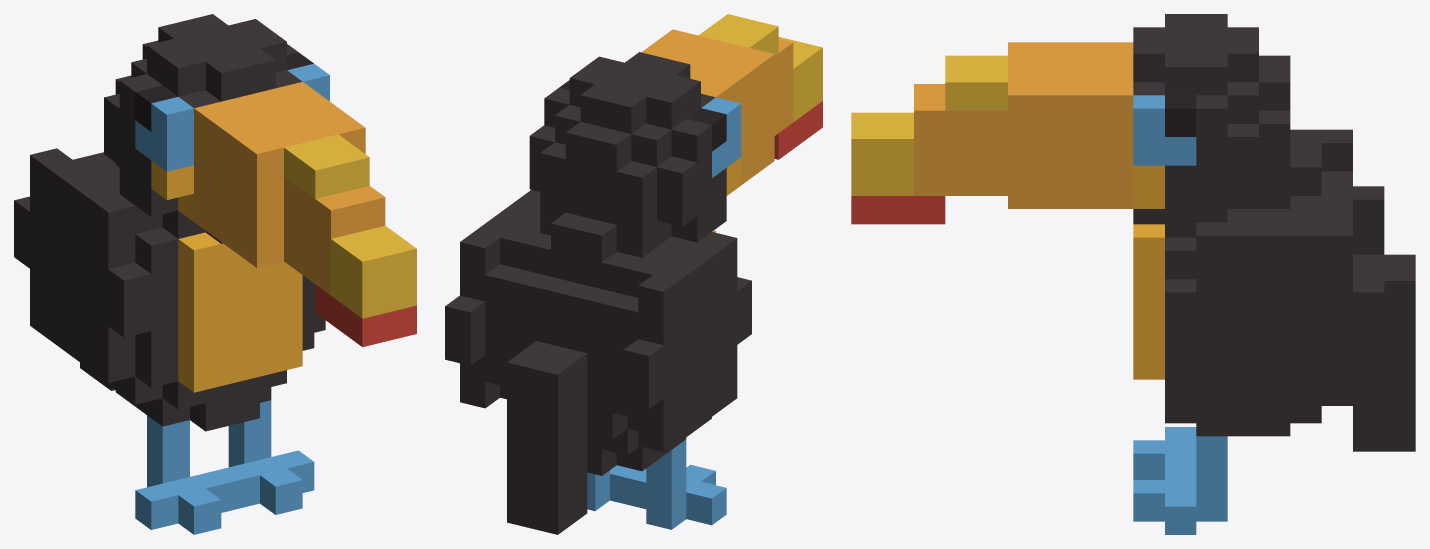
File: toucan.glb
3 views of the same model, side by side, from view 1: azimuth 30°, elevation 25°; view 2: azimuth 150°, elevation 25°; view 3: azimuth 270°, elevation 25° (orthographic). The views are drawn at different scales.
Parts seen in each view (by area): view 1: toucan__head, toucan__body, toucan__wing_r, toucan__leg_r, toucan__leg_l; view 2: toucan__head, toucan__wing_r, toucan__body, toucan__tail, toucan__wing_l, toucan__leg_r, toucan__leg_l; view 3: toucan__head, toucan__wing_l, toucan__body, toucan__tail, toucan__leg_l, toucan__wing_r, toucan__leg_r.
Part boxes in pixels (x1=…): toucan__head: x1=104, y1=14, x2=416, y2=347; toucan__body: x1=88, y1=152, x2=314, y2=431; toucan__wing_r: x1=14, y1=148, x2=151, y2=382; toucan__leg_r: x1=135, y1=415, x2=232, y2=534; toucan__leg_l: x1=217, y1=400, x2=314, y2=514; toucan__head: x1=529, y1=14, x2=822, y2=246; toucan__wing_r: x1=612, y1=232, x2=751, y2=451; toucan__body: x1=511, y1=206, x2=715, y2=475; toucan__tail: x1=507, y1=341, x2=587, y2=534; toucan__wing_l: x1=445, y1=190, x2=540, y2=408; toucan__leg_r: x1=635, y1=439, x2=726, y2=529; toucan__leg_l: x1=587, y1=465, x2=646, y2=510; toucan__head: x1=851, y1=14, x2=1290, y2=237; toucan__wing_l: x1=1165, y1=209, x2=1384, y2=405; toucan__body: x1=1133, y1=141, x2=1352, y2=436; toucan__tail: x1=1353, y1=254, x2=1415, y2=451; toucan__leg_l: x1=1133, y1=436, x2=1227, y2=534; toucan__wing_r: x1=1290, y1=129, x2=1384, y2=254; toucan__leg_r: x1=1133, y1=427, x2=1196, y2=479.
Size of the model in its own units: 0.8 by 1.6 by 1.8.
1 material, 1 textured.
